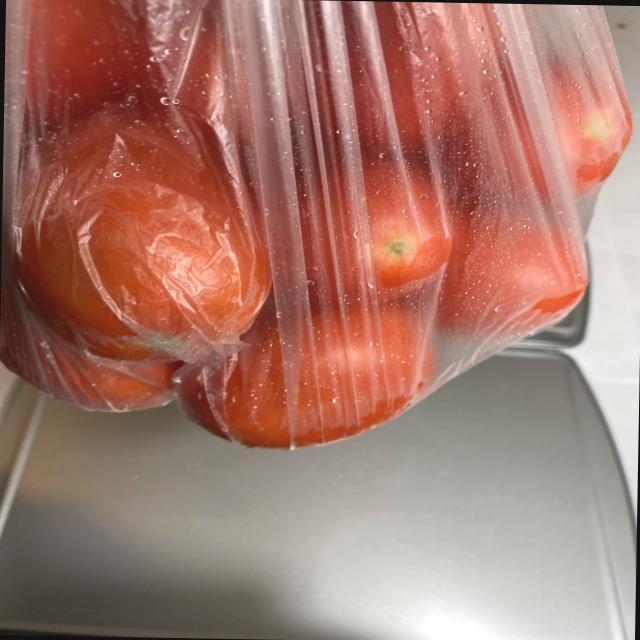tomato: (1, 6, 627, 460)
